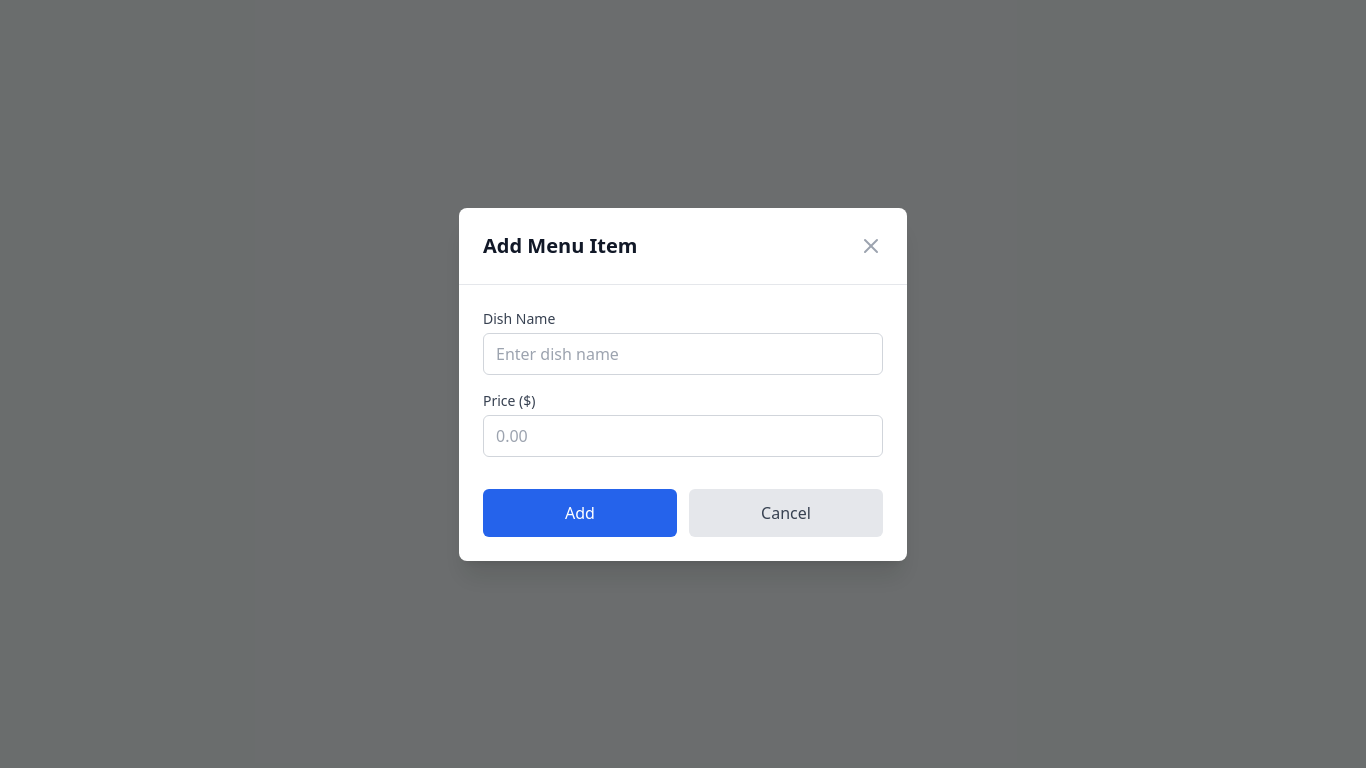
Test: MenuItemForm › displays error message on submission failure
The image size is (1366, 768).
Type "Pasta" into the field labelled "Dish Name" at (683, 354), box x1=483 y1=332 x2=883 y2=374
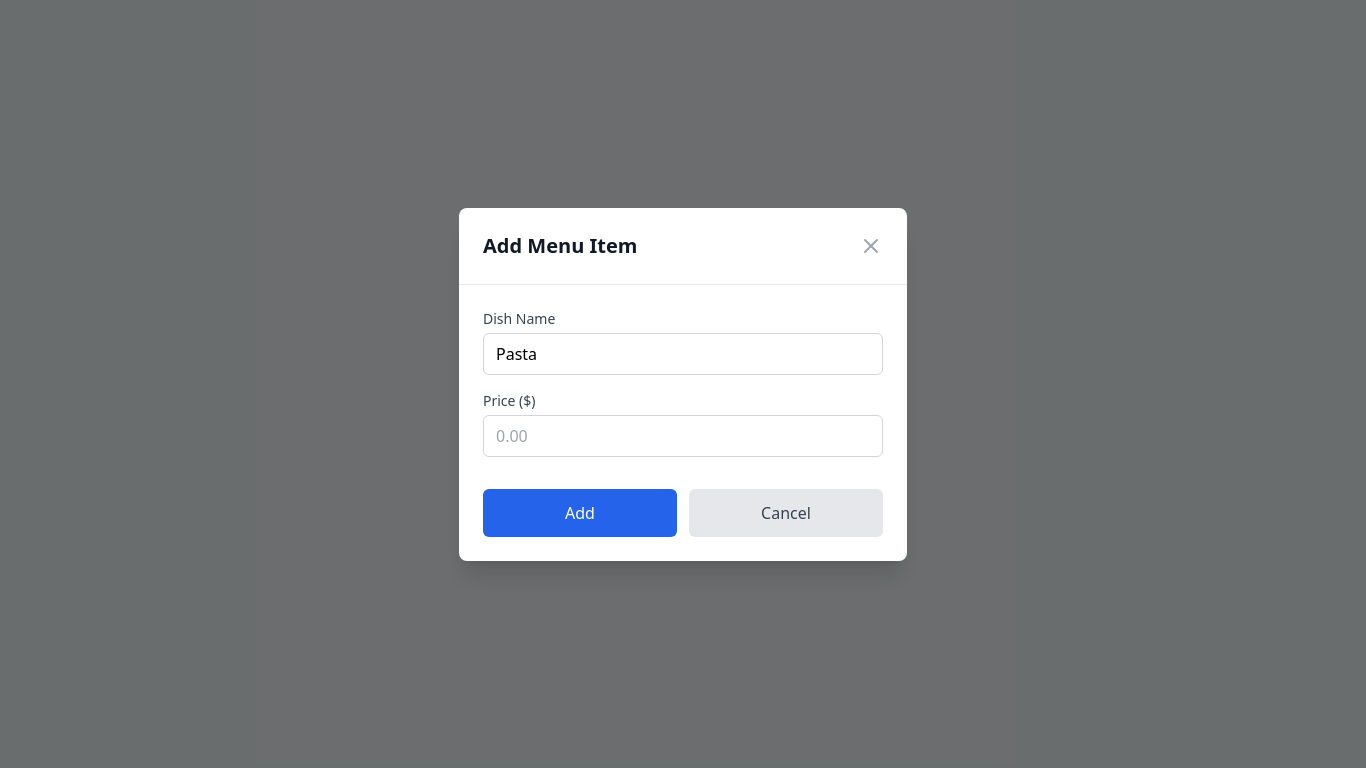
Type "12.99" into the number field labelled "Price ($)" at (683, 436), box x1=483 y1=414 x2=883 y2=456
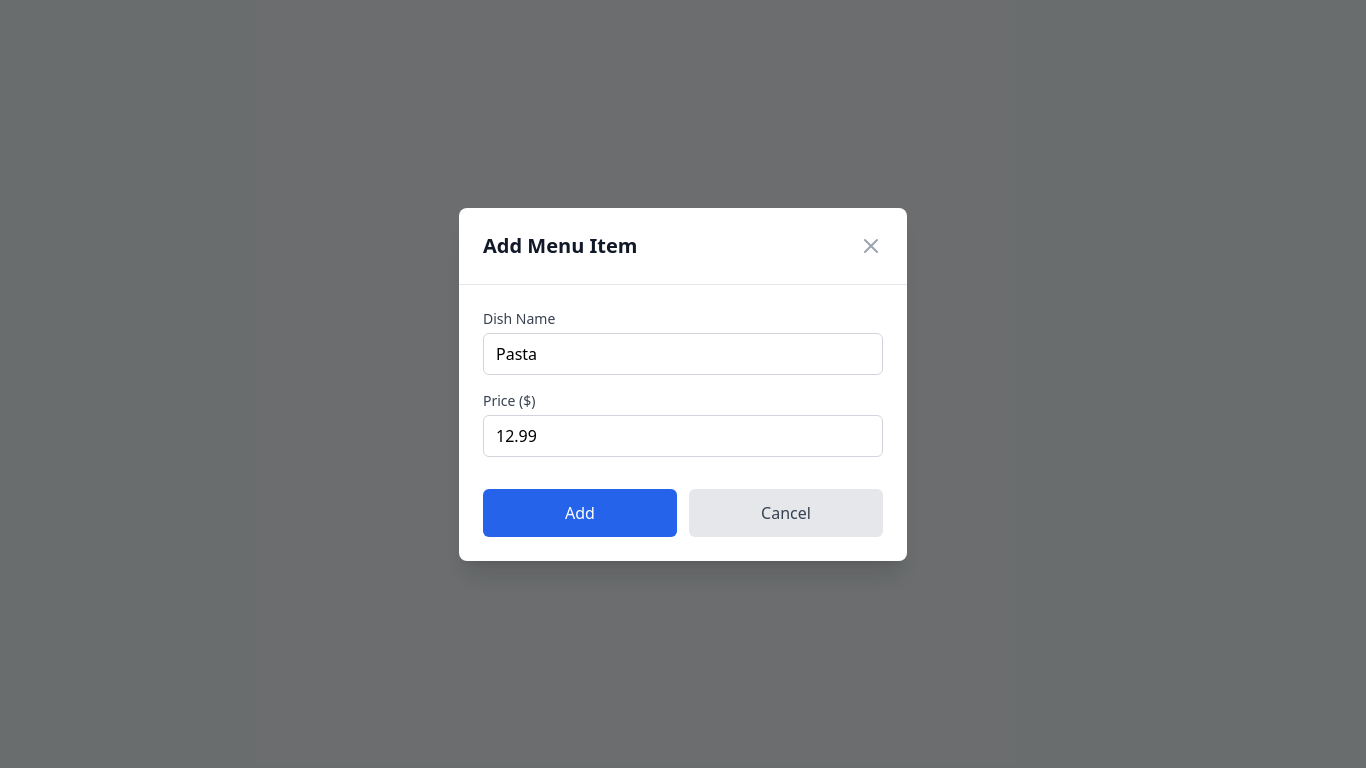
Click the button "Add" at (580, 512), box x1=483 y1=488 x2=677 y2=536
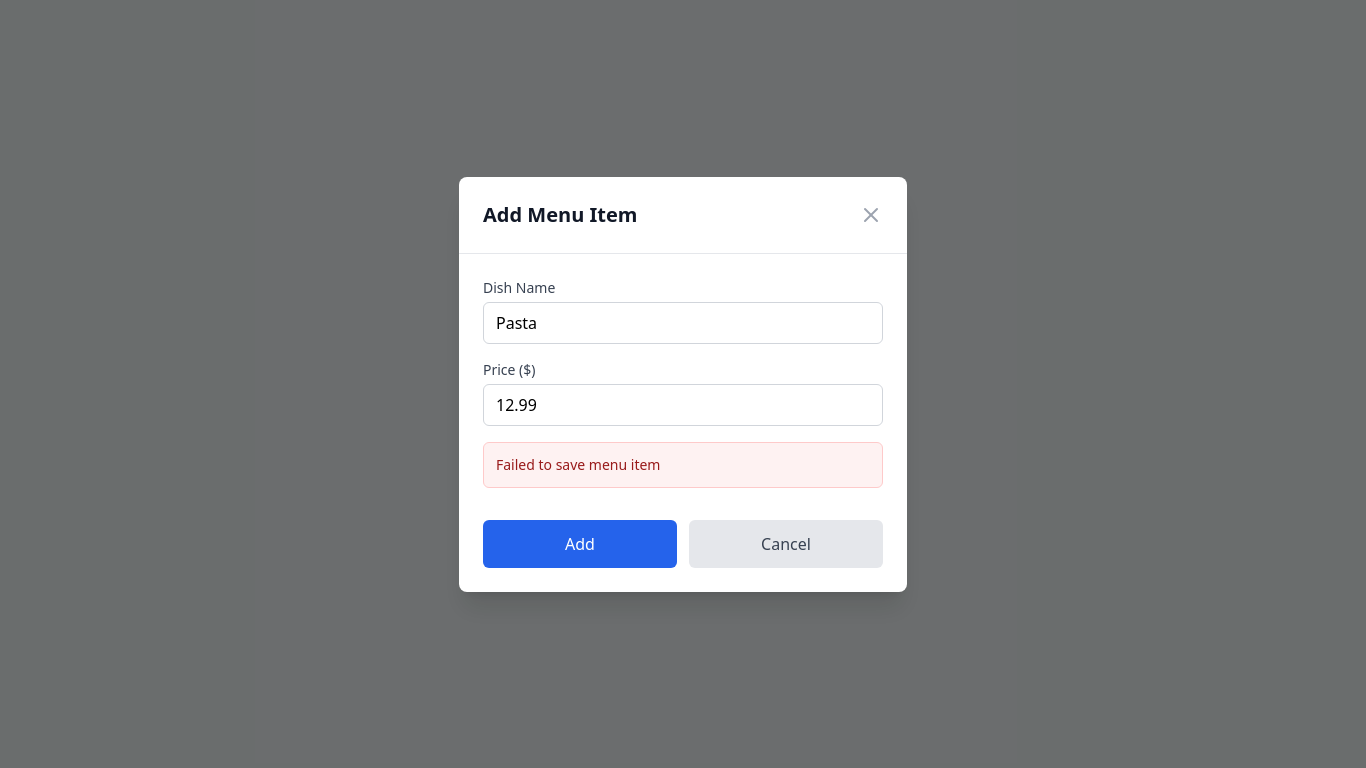
Result: the text "Failed to save menu item" is shown at x1=496 y1=454 x2=660 y2=474
